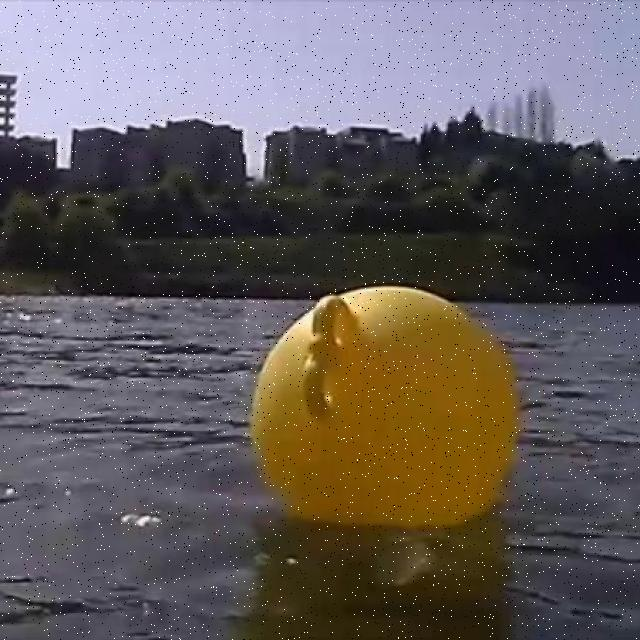buoy: (252, 282, 517, 530)
